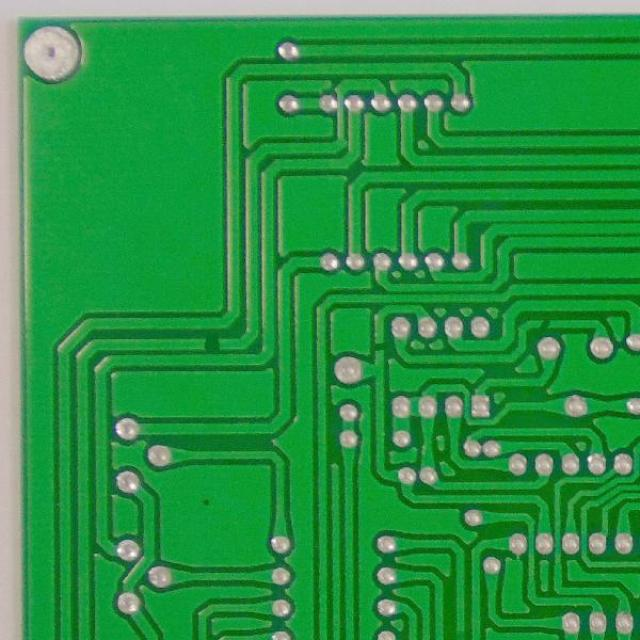Open_Circuit: (196, 329, 230, 355), (370, 335, 391, 358), (533, 315, 557, 334)
